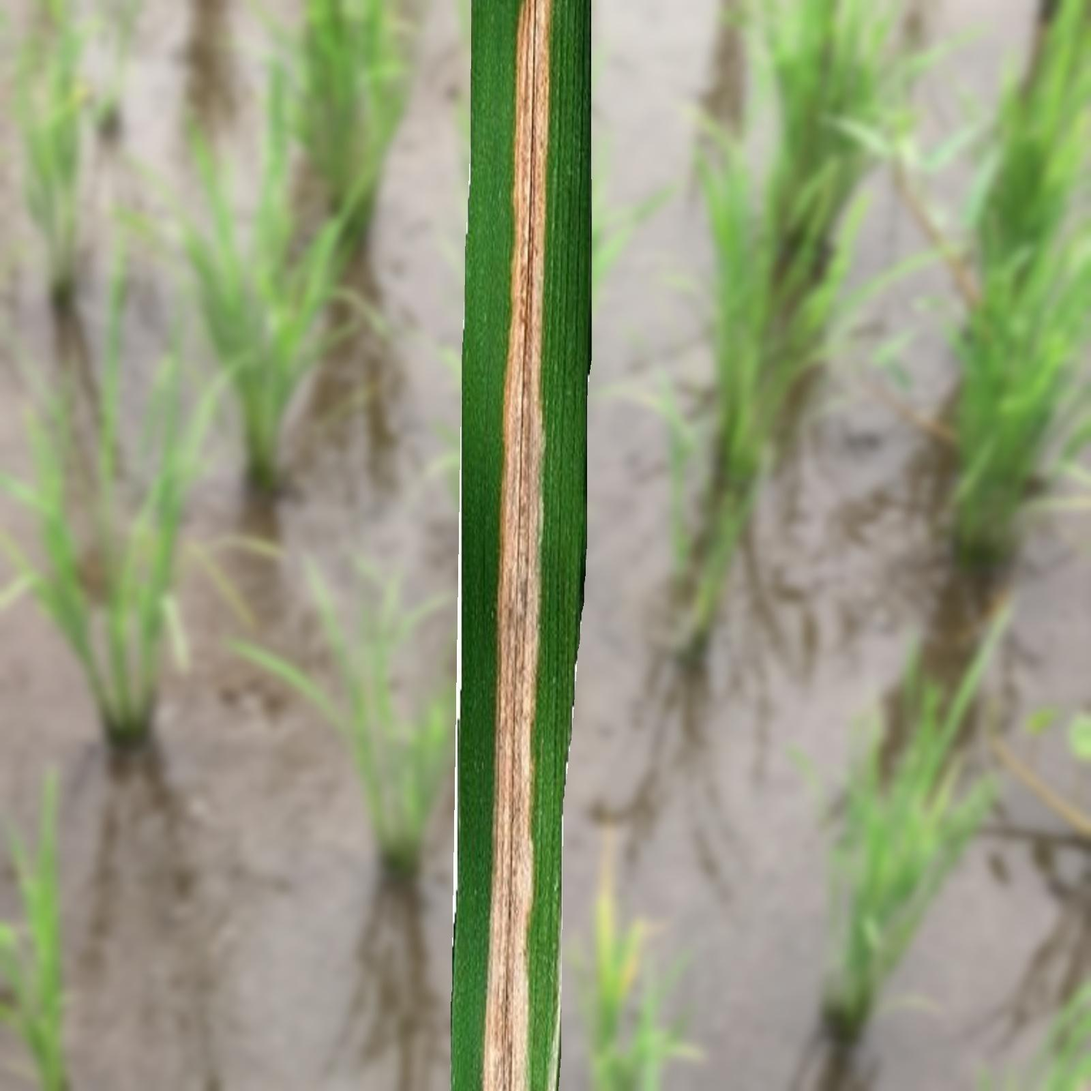BLB: (482, 0, 553, 1090)
LEAF: (450, 0, 591, 1090)
